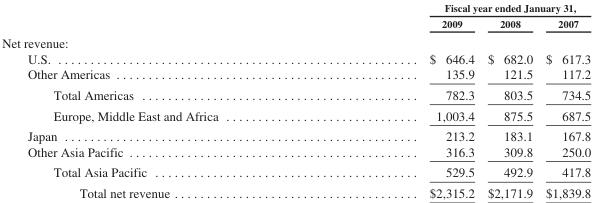table: (1, 1, 590, 199)
table column: (1, 1, 323, 199), (323, 1, 480, 199), (480, 1, 538, 199), (538, 1, 590, 199)
table column header: (1, 1, 590, 32)
table projected row header: (1, 32, 590, 50)
table row: (1, 104, 590, 125), (1, 161, 590, 182), (1, 84, 590, 104), (1, 32, 590, 50), (1, 66, 590, 84), (1, 125, 590, 143), (1, 143, 590, 161), (1, 15, 590, 32), (1, 182, 590, 199), (1, 50, 590, 66), (1, 1, 590, 15)
table spanning cell: (323, 1, 590, 15)
